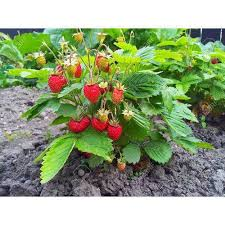Fresa: (83, 81, 102, 107), (47, 71, 67, 95), (92, 112, 109, 137), (107, 120, 123, 143)
